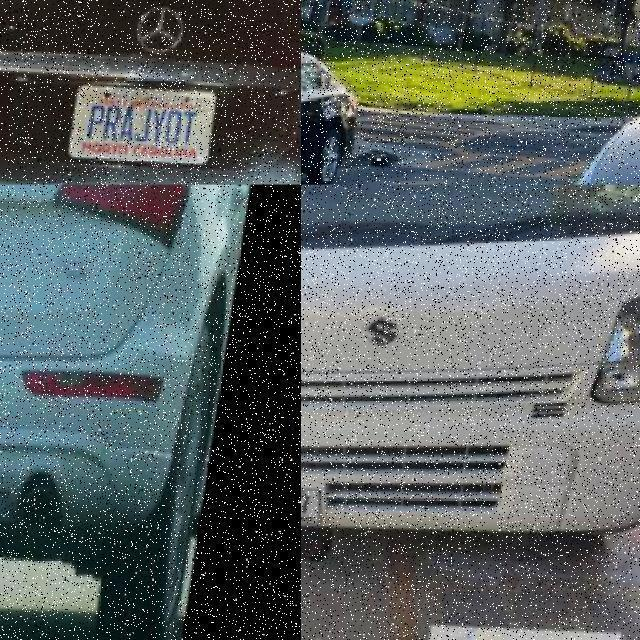License Plate: (69, 87, 217, 170), (299, 474, 376, 548), (0, 197, 48, 290)
